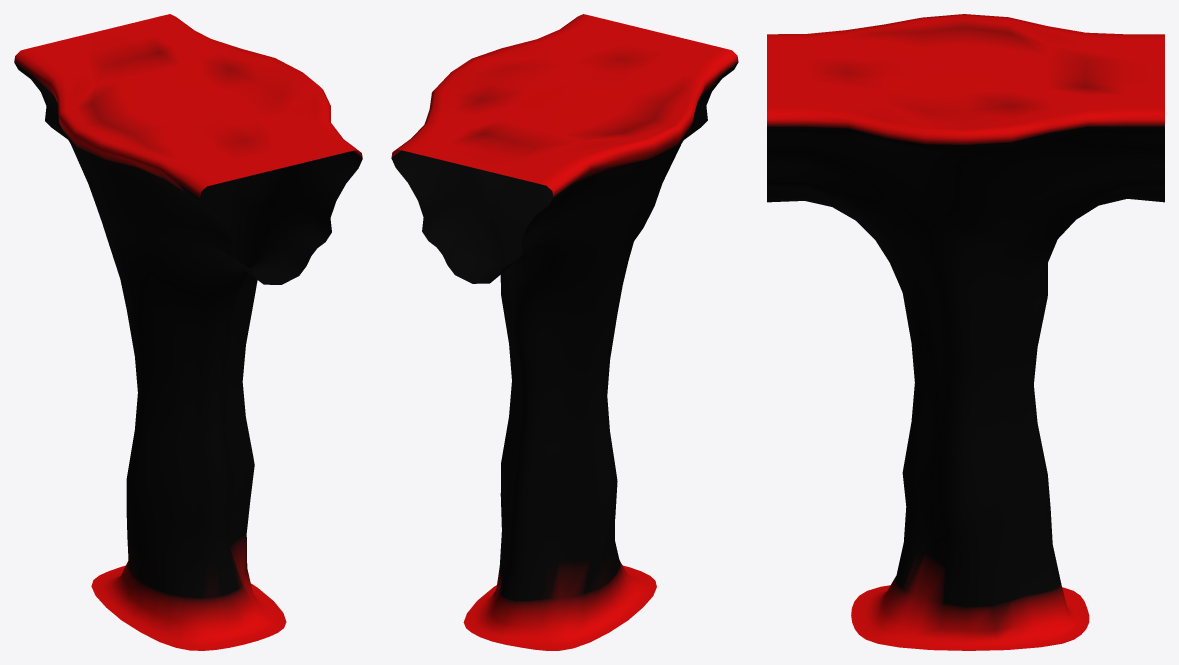
Rendered from CrossingCliff01B 3M Foreground.fbx.
3 renders of one model, left to right at view 1: azimuth 30°, elevation 25°; view 2: azimuth 150°, elevation 25°; view 3: azimuth 270°, elevation 25°, orthographic. The views are drawn at different scales.
Visible parts, largest first — view 1: CrossingCliff01B 3M Foreground; view 2: CrossingCliff01B 3M Foreground; view 3: CrossingCliff01B 3M Foreground.
Part boxes in pixels (x1=…): CrossingCliff01B 3M Foreground: x1=14, y1=14, x2=362, y2=650; CrossingCliff01B 3M Foreground: x1=391, y1=14, x2=738, y2=650; CrossingCliff01B 3M Foreground: x1=767, y1=14, x2=1164, y2=650.
Size of the model in its own units: 1.44 by 3 by 2.
